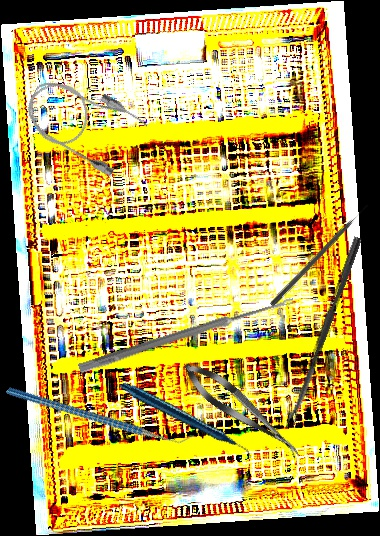Cannula: (16, 63, 151, 181)
Chopper: (5, 330, 195, 498)
Handpiece: (118, 346, 252, 497)
Micro Scissor: (176, 354, 308, 466)
Pusher: (269, 203, 371, 308)
Surgical Spoon: (77, 294, 296, 375), (285, 235, 363, 426)
